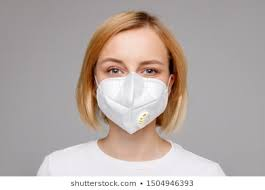mask: (97, 73, 164, 132)
